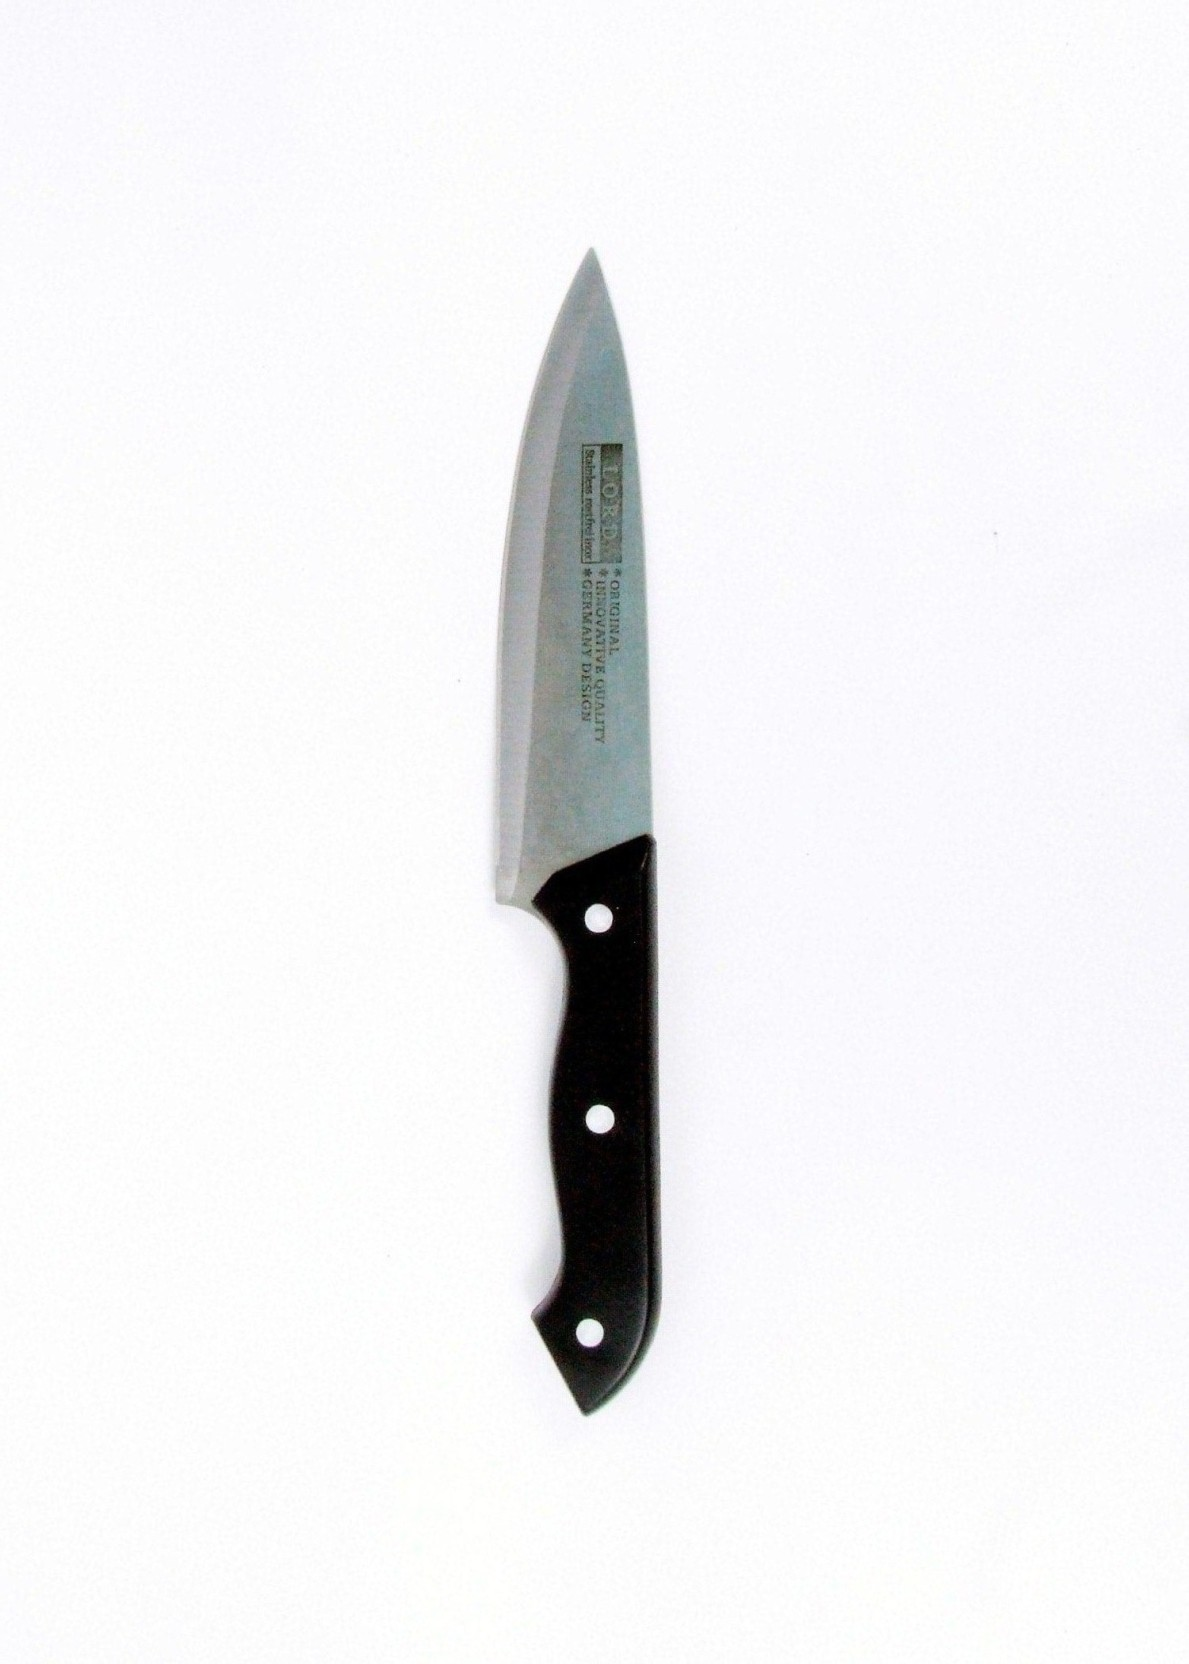knife: (498, 242, 661, 1404)
